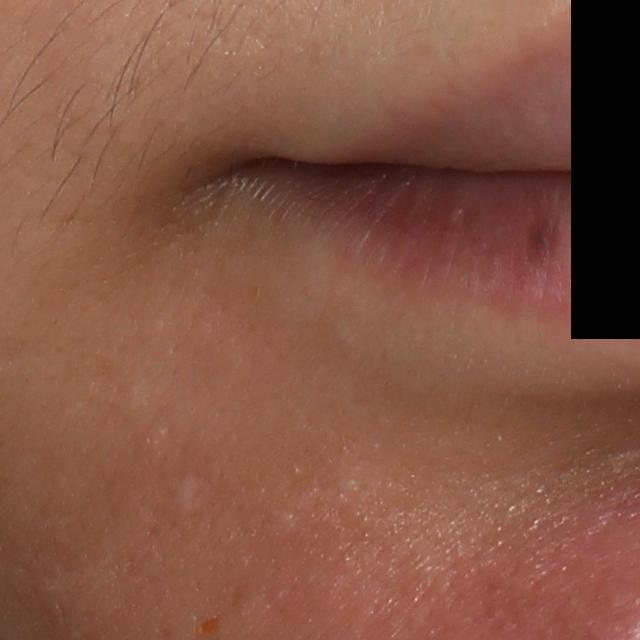hypertrophic_scar: (166, 471, 202, 529)
nevus: (527, 219, 560, 265)
